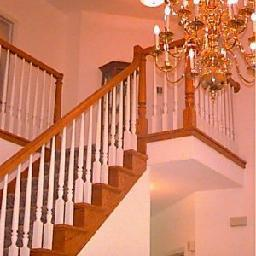Escaleras: (3, 57, 146, 252)
